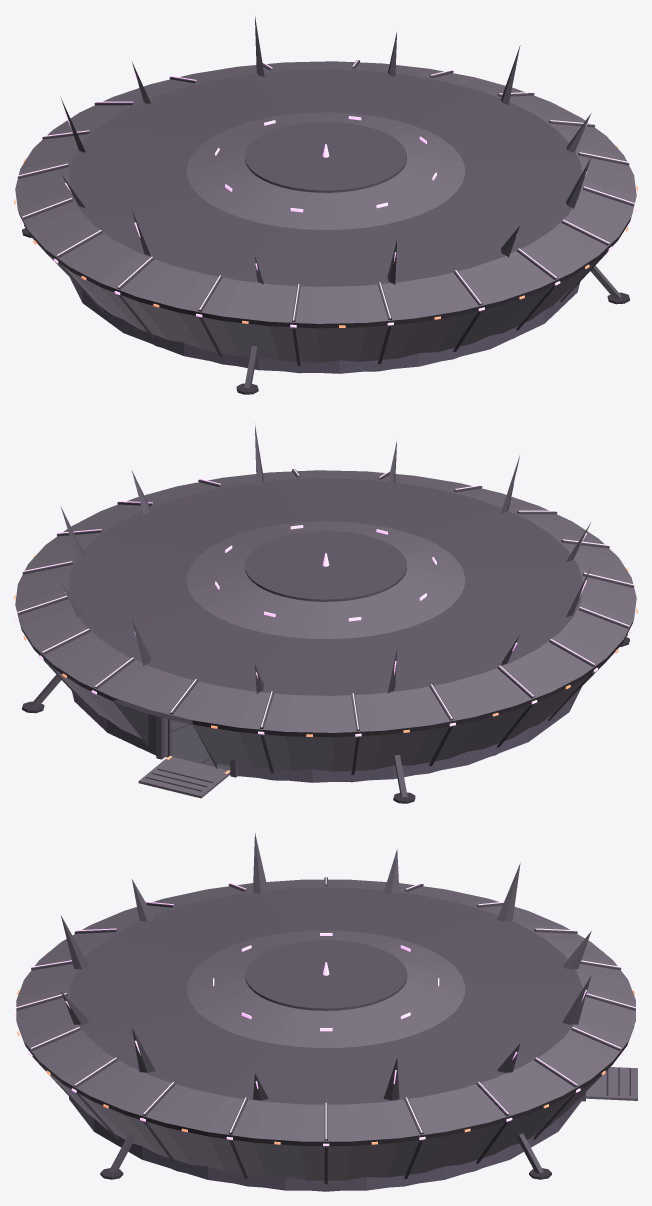
File: ufo_g_harvester.glb
3 views of the same model, one above another, from view 1: azimuth 30°, elevation 25°; view 2: azimuth 150°, elevation 25°; view 3: azimuth 270°, elevation 25° (orthographic).
Parts seen in each view (by area): view 1: Hull; view 2: Hull; view 3: Hull.
Part boxes in pixels (bbox=[...]): Hull: bbox=[14, 16, 637, 394]; Hull: bbox=[14, 423, 637, 803]; Hull: bbox=[14, 833, 637, 1191].
Size of what is drawn, in the model's own units: 24.63 by 6.15 by 24.62.
